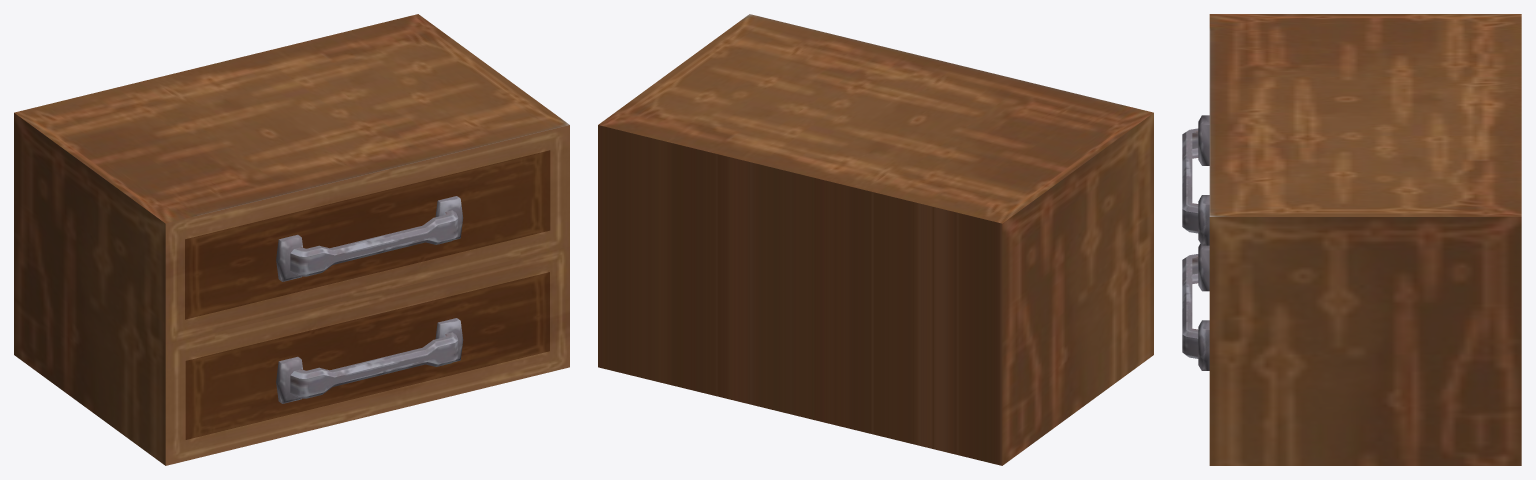
Rendered from Workbench_Drawers.gltf.
3 views of the same model, side by side, from view 1: azimuth 30°, elevation 25°; view 2: azimuth 150°, elevation 25°; view 3: azimuth 270°, elevation 25° (orthographic). The views are drawn at different scales.
Parts seen in each view (by area): view 1: Workbench_Drawers; view 2: Workbench_Drawers; view 3: Workbench_Drawers.
Part boxes in pixels (<box>): Workbench_Drawers: <box>14,14,569,465</box>; Workbench_Drawers: <box>598,14,1153,465</box>; Workbench_Drawers: <box>1182,14,1521,465</box>.
Size of the model in its own units: 0.4231 by 0.2423 by 0.299.
Materials: 2 (2 with a texture image).
